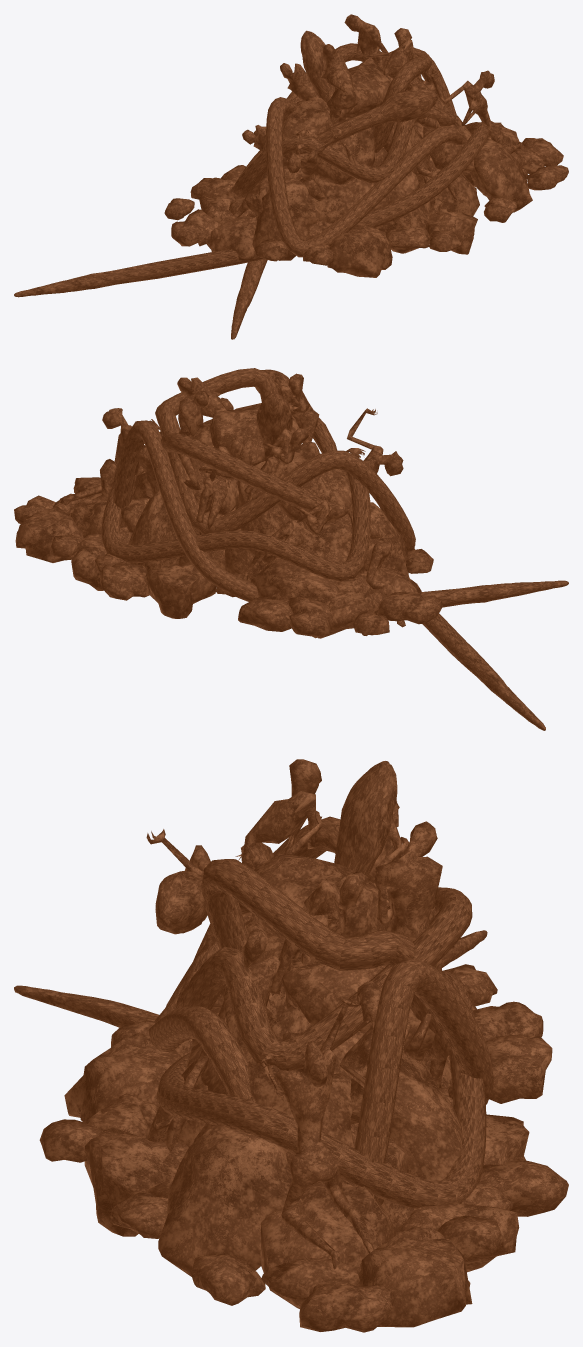
The model's file is aeg277_094.glb.
The picture shows the model from 3 angles, top to bottom: view 1: azimuth 30°, elevation 25°; view 2: azimuth 150°, elevation 25°; view 3: azimuth 270°, elevation 25°; orthographic projection. The views are drawn at different scales.
Visible parts, largest first — view 1: mesh[2], mesh[0], mesh[1]; view 2: mesh[2], mesh[0], mesh[1]; view 3: mesh[2], mesh[0], mesh[1].
Part boxes in pixels (x1,y1,x2,y2): mesh[2]: [164, 57, 568, 277]; mesh[0]: [14, 30, 489, 339]; mesh[1]: [198, 14, 525, 251]; mesh[2]: [14, 403, 442, 638]; mesh[0]: [101, 368, 568, 730]; mesh[1]: [60, 373, 414, 627]; mesh[2]: [39, 853, 568, 1332]; mesh[0]: [14, 761, 494, 1208]; mesh[1]: [142, 759, 454, 1269].
Bounding box in the file's own units: 8.79 × 3.67 × 4.24.
3 materials, 3 textured.
